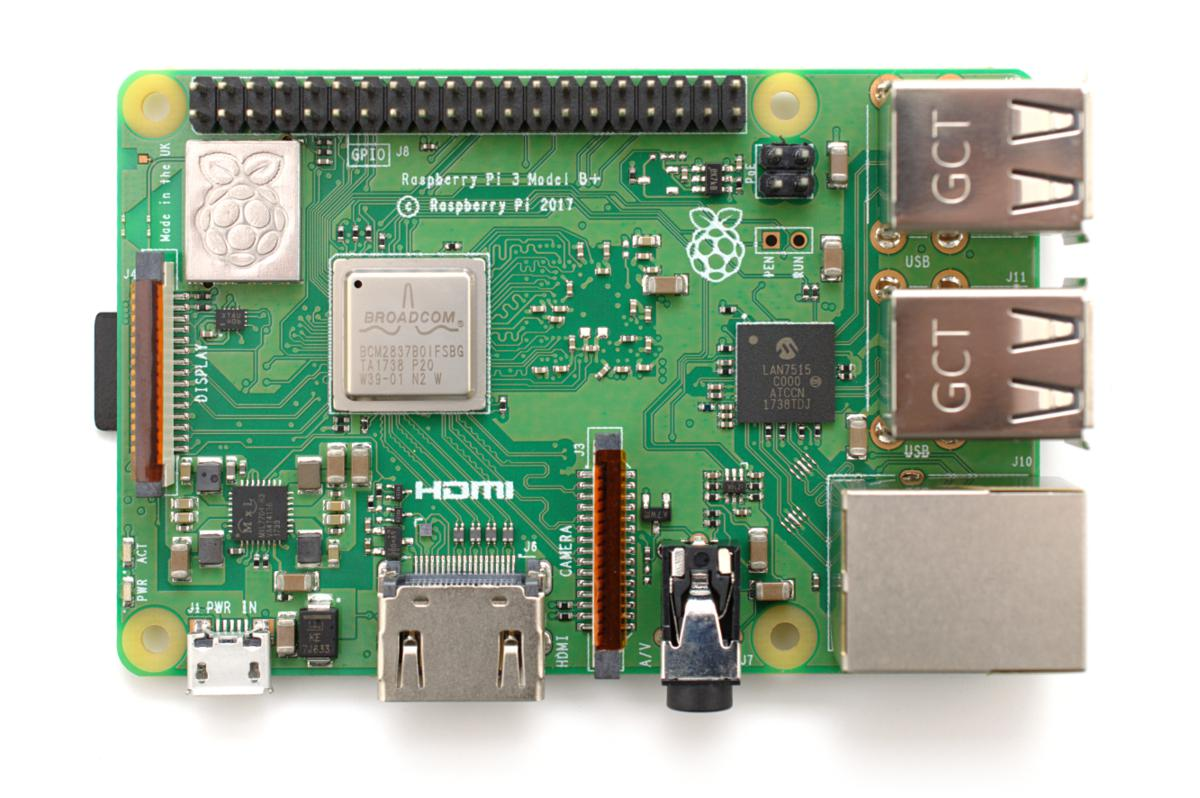audiojack: (661, 543, 740, 713)
bchi: (327, 247, 496, 419)
ethernet: (843, 487, 1087, 675)
gpio: (187, 75, 747, 136)
usb: (894, 286, 1091, 441), (891, 82, 1091, 229)
